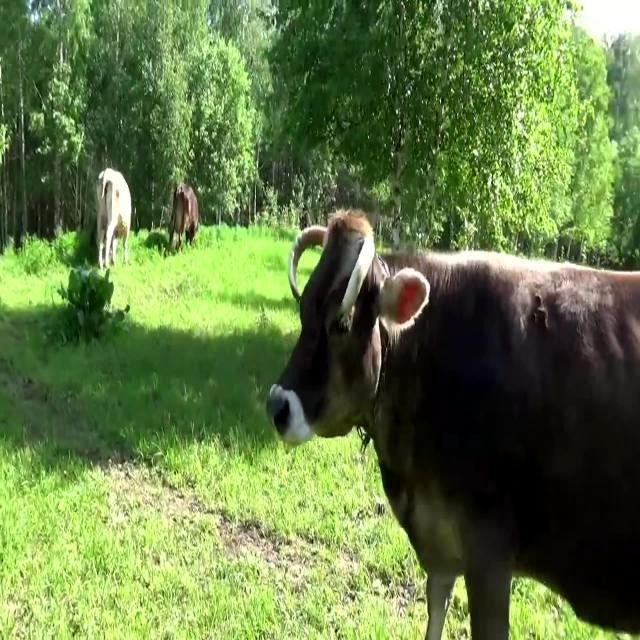COW: (269, 211, 640, 640)
